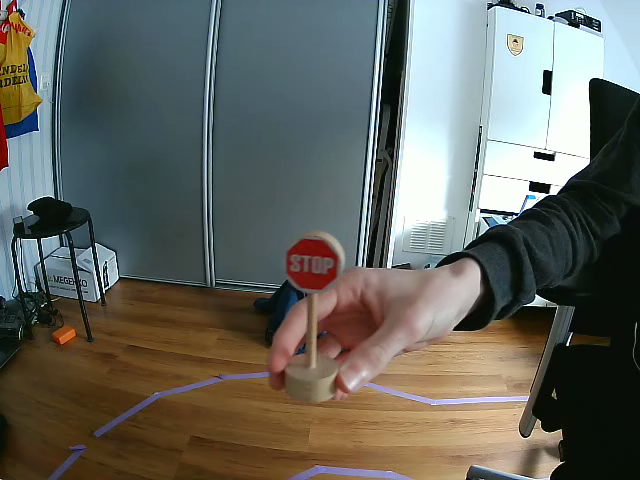stopbord: (282, 235, 341, 295)
